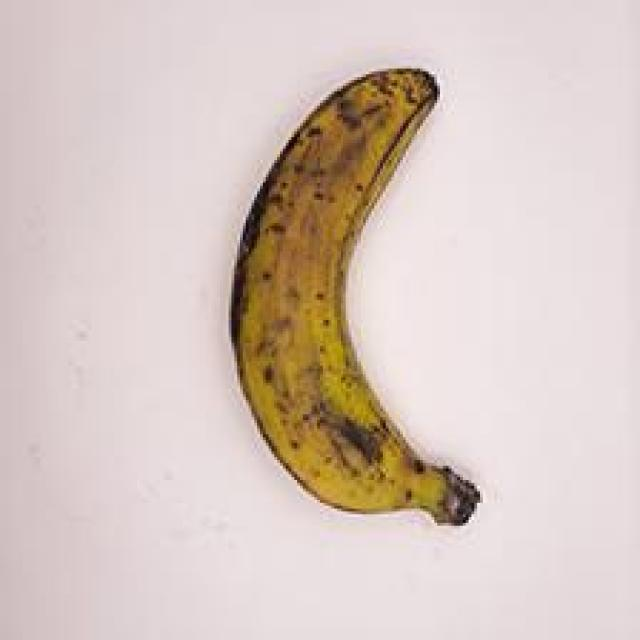Overripe: (209, 47, 524, 548)
